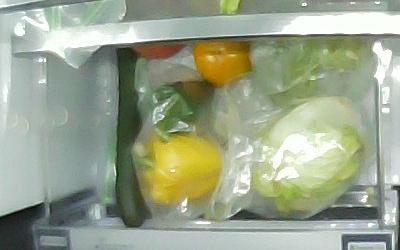cucumber_vinyl: (114, 48, 144, 228)
lettuce_vinyl: (252, 96, 367, 218)
paprika_vinyl: (133, 135, 223, 203), (146, 79, 215, 142)
persimmon_vinyl: (192, 41, 251, 88)
